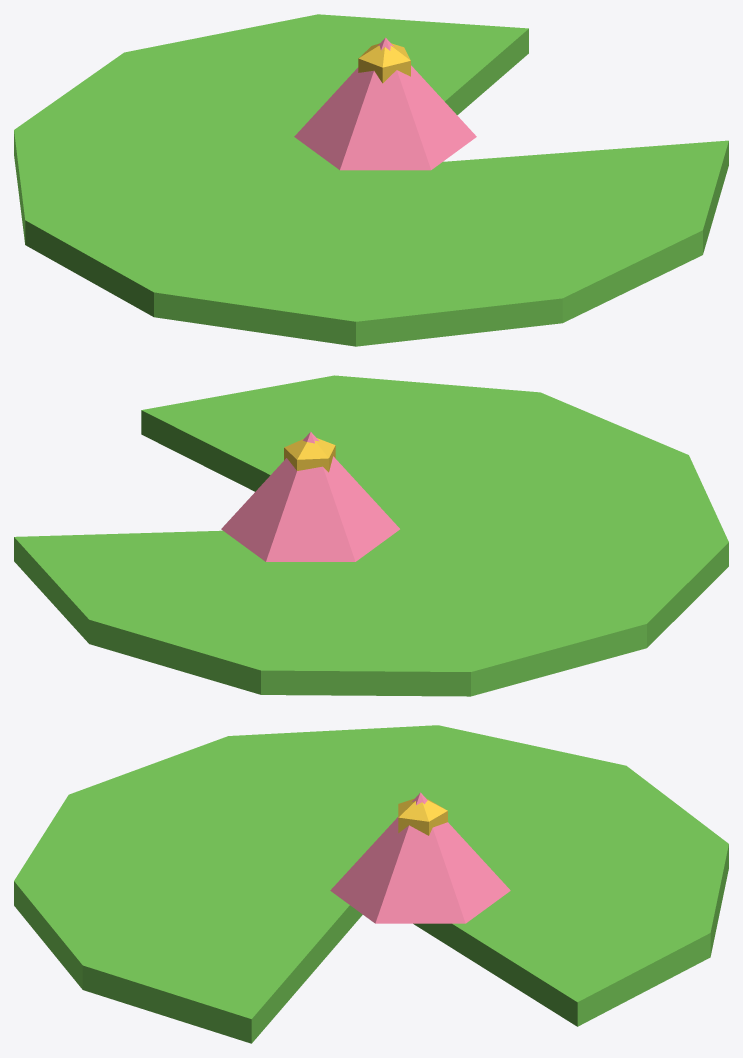
The model's file is prop_lily_pad.glb.
3 views of the same model, one above another, from view 1: azimuth 30°, elevation 25°; view 2: azimuth 150°, elevation 25°; view 3: azimuth 270°, elevation 25° (orthographic).
Parts seen in each view (by area): view 1: prop_lily_pad; view 2: prop_lily_pad; view 3: prop_lily_pad.
Part boxes in pixels (x1=…): prop_lily_pad: x1=14, y1=14, x2=728, y2=346; prop_lily_pad: x1=14, y1=375, x2=728, y2=696; prop_lily_pad: x1=14, y1=725, x2=728, y2=1043.
Bounding box in the file's own units: 0.7698 × 0.155 × 0.791.
